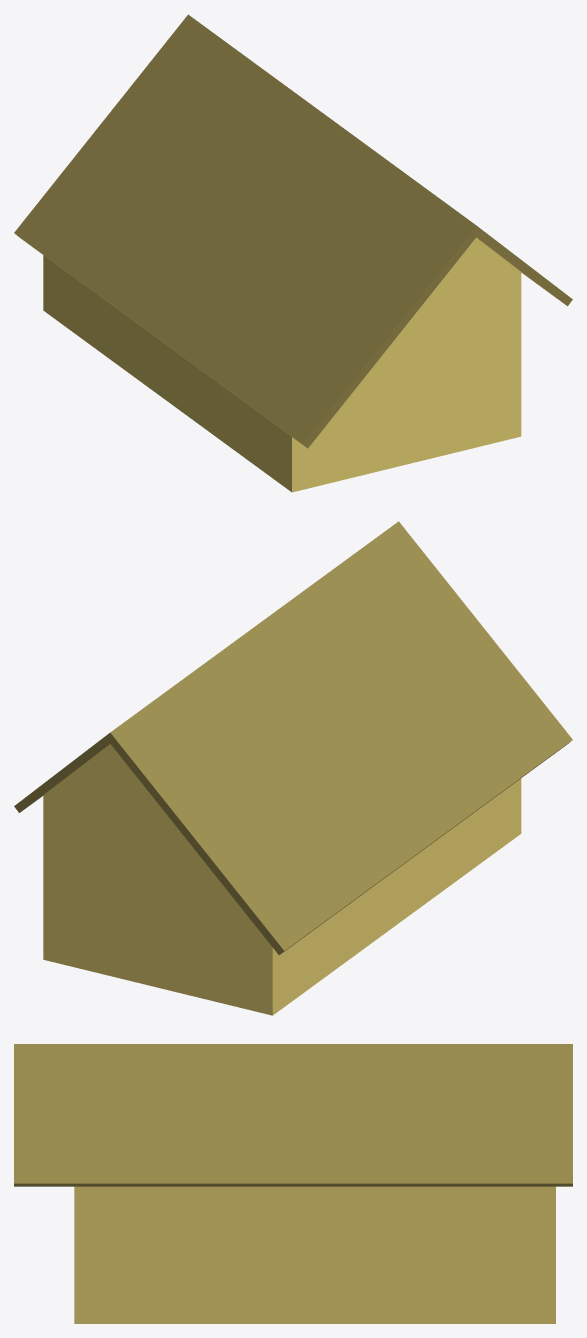
Rendered from result.glb.
3 views of the same model, one above another, from view 1: azimuth 30°, elevation 25°; view 2: azimuth 150°, elevation 25°; view 3: azimuth 270°, elevation 25° (orthographic). The views are drawn at different scales.
Parts seen in each view (by area): view 1: a33660a9-2ec4-44fe-a084-dc5756e311ef__undefined (×2), d720dcc9-5bee-4d84-b7f8-d1c2052c666d__undefined; view 2: a33660a9-2ec4-44fe-a084-dc5756e311ef__undefined (×2), d720dcc9-5bee-4d84-b7f8-d1c2052c666d__undefined; view 3: a33660a9-2ec4-44fe-a084-dc5756e311ef__undefined, d720dcc9-5bee-4d84-b7f8-d1c2052c666d__undefined.
Boxes of the visible parts, x1,y1,x2,y2 form: a33660a9-2ec4-44fe-a084-dc5756e311ef__undefined (×2): (14, 14, 572, 448); d720dcc9-5bee-4d84-b7f8-d1c2052c666d__undefined: (43, 237, 521, 492); a33660a9-2ec4-44fe-a084-dc5756e311ef__undefined (×2): (14, 521, 572, 955); d720dcc9-5bee-4d84-b7f8-d1c2052c666d__undefined: (43, 744, 521, 1015); a33660a9-2ec4-44fe-a084-dc5756e311ef__undefined: (14, 1044, 572, 1186); d720dcc9-5bee-4d84-b7f8-d1c2052c666d__undefined: (74, 1186, 555, 1323).
Bounding box in the file's own units: 888 × 791 × 1641.
